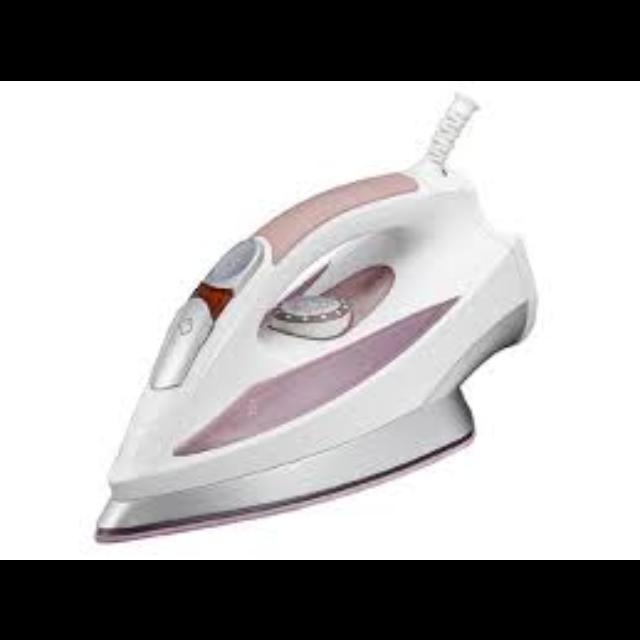Clothes-Iron: (146, 155, 516, 492)
